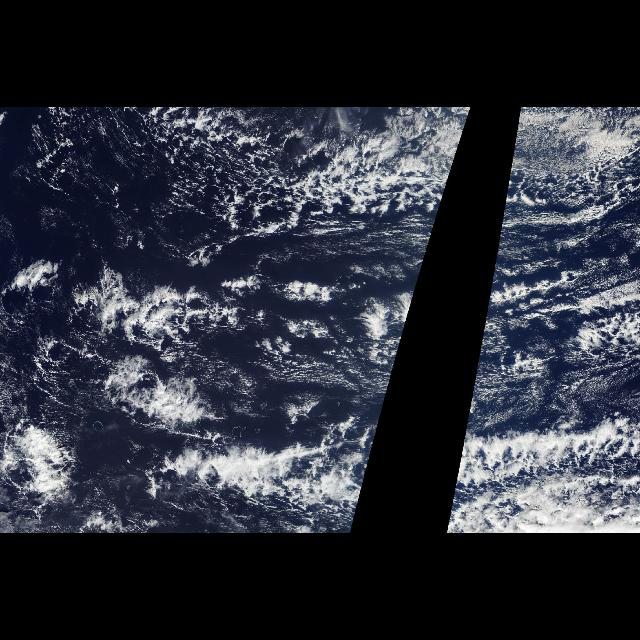Fish: (21, 254, 387, 530), (446, 401, 640, 531)
Gravel: (20, 107, 470, 270), (500, 108, 636, 225)
Sugar: (9, 217, 438, 436), (464, 217, 640, 436)
